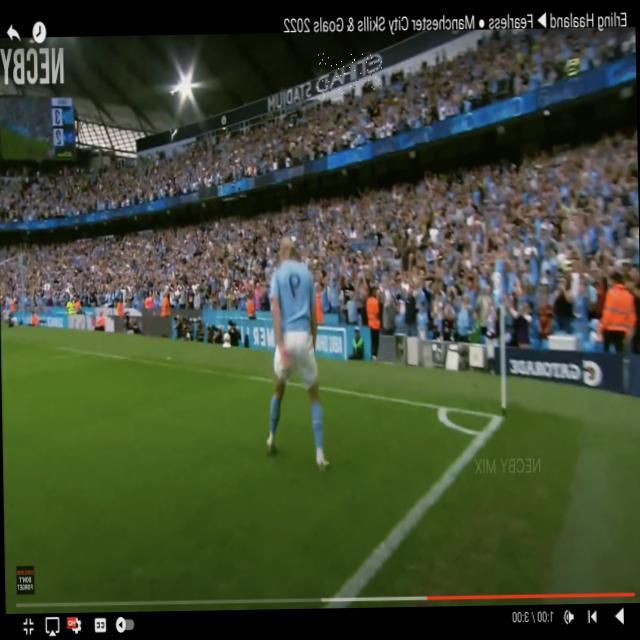Etihad Airways: (316, 52, 382, 96)
